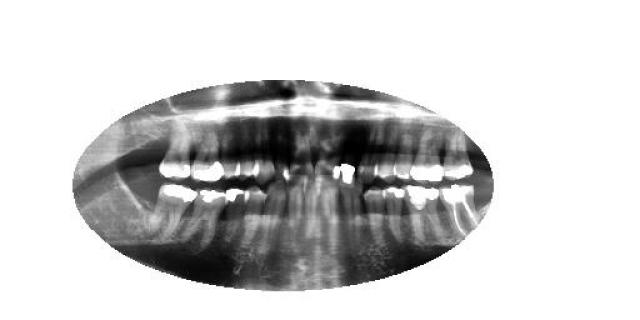Fillings: (180, 188, 229, 244), (150, 183, 196, 235), (405, 184, 444, 242), (190, 126, 225, 182), (159, 118, 191, 178), (410, 125, 444, 181), (442, 128, 477, 180), (226, 189, 248, 246), (384, 186, 406, 242)
Implant: (440, 181, 480, 240)
